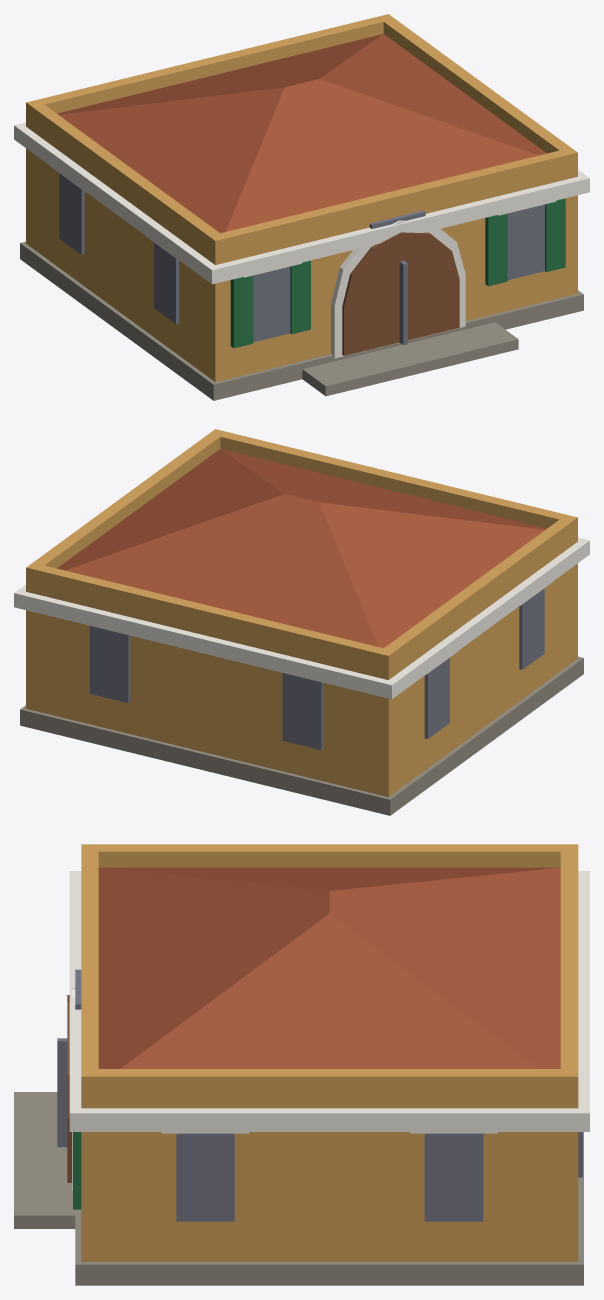
Rendered from house-1x1-1f-colonial-a.glb.
3 renders of one model, top to bottom at view 1: azimuth 30°, elevation 25°; view 2: azimuth 150°, elevation 25°; view 3: azimuth 270°, elevation 25°, orthographic. The views are drawn at different scales.
Parts seen in each view (by area): view 1: house-1x1-1f-colonial-a; view 2: house-1x1-1f-colonial-a; view 3: house-1x1-1f-colonial-a.
Part boxes in pixels (left/top/right/bottom): house-1x1-1f-colonial-a: left=14, top=14, right=589, bottom=400; house-1x1-1f-colonial-a: left=14, top=429, right=589, bottom=815; house-1x1-1f-colonial-a: left=14, top=844, right=589, bottom=1285.
Bounding box in the file's own units: 0.98 × 0.5 × 0.985.
1 material, 1 textured.
